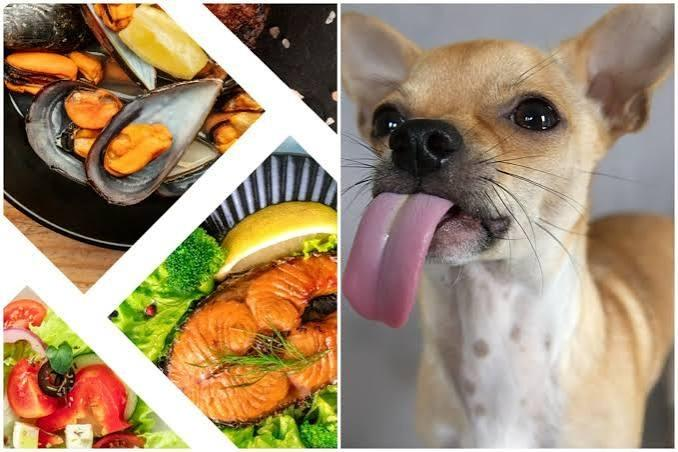adult_dog: (339, 5, 676, 447)
